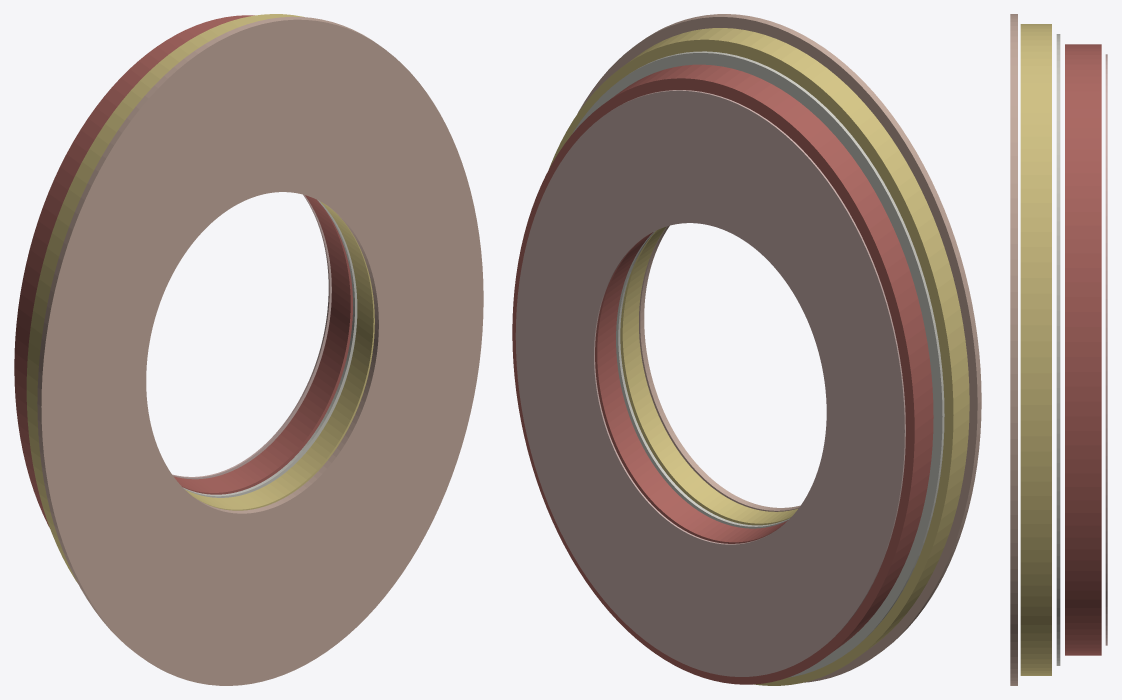
The model's file is dranmar_patient_body_layers_debug.glb.
The picture shows the model from 3 angles, left to right: view 1: azimuth 30°, elevation 25°; view 2: azimuth 150°, elevation 25°; view 3: azimuth 270°, elevation 25°; orthographic projection. The views are drawn at different scales.
Visible parts, largest first — view 1: skin, abdominal_wall, subcutaneous_fat, fascia, peritoneum; view 2: peritoneum, abdominal_wall, subcutaneous_fat, skin, fascia; view 3: abdominal_wall, subcutaneous_fat, skin, fascia, peritoneum.
Part boxes in pixels (x1,y1,x2,y2): skin: (37, 16, 483, 685); abdominal_wall: (14, 15, 352, 527); subcutaneous_fat: (26, 14, 374, 582); fascia: (183, 200, 357, 497); peritoneum: (172, 194, 331, 479); peritoneum: (515, 90, 905, 676); abdominal_wall: (512, 64, 933, 684); subcutaneous_fat: (549, 28, 969, 685); skin: (577, 14, 981, 682); fascia: (572, 51, 944, 677); abdominal_wall: (1065, 44, 1101, 655); subcutaneous_fat: (1020, 24, 1051, 675); skin: (1010, 14, 1017, 685); fascia: (1056, 34, 1060, 665); peritoneum: (1105, 54, 1107, 645).
Bounding box in the file's own units: 0.38 × 0.54 × 0.0748.
